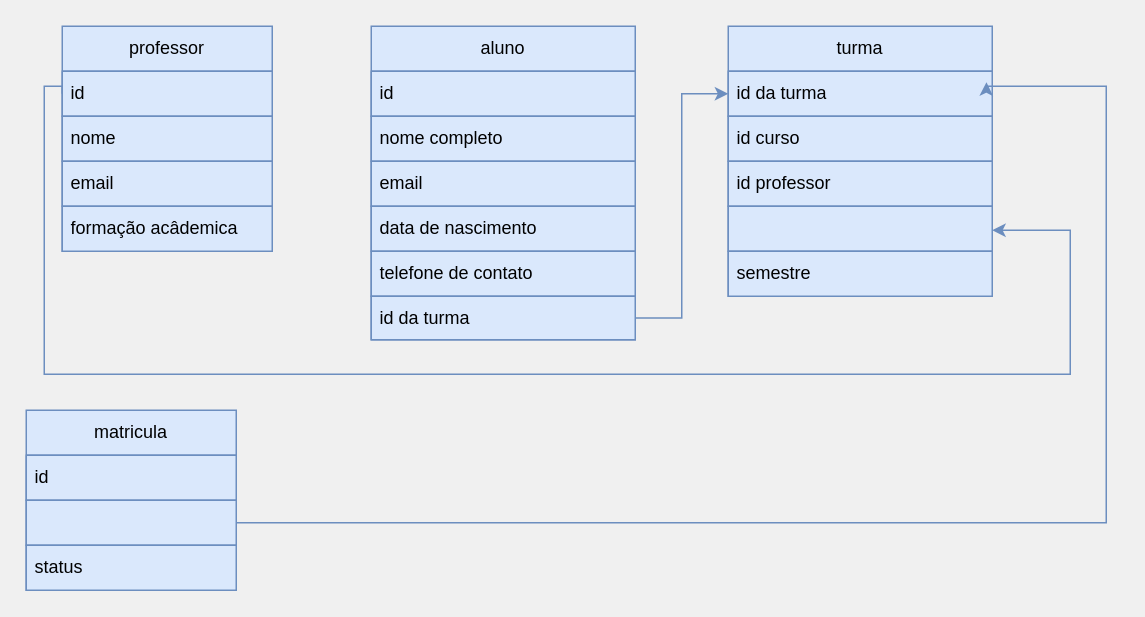
Image size: 1145x617. Some labels were removed from this diagram. Each missing label, with the centre of its shape:
horário da aula: point 859,228
id turma: point 130,522
